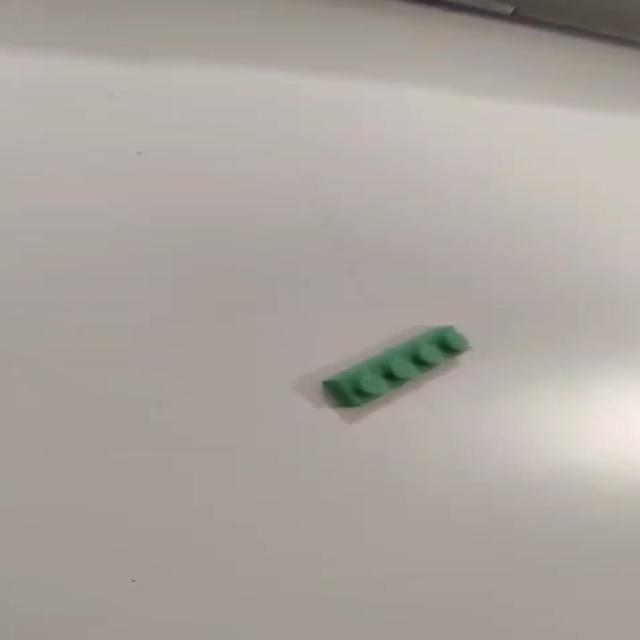C4x1x0: (296, 322, 475, 422)
